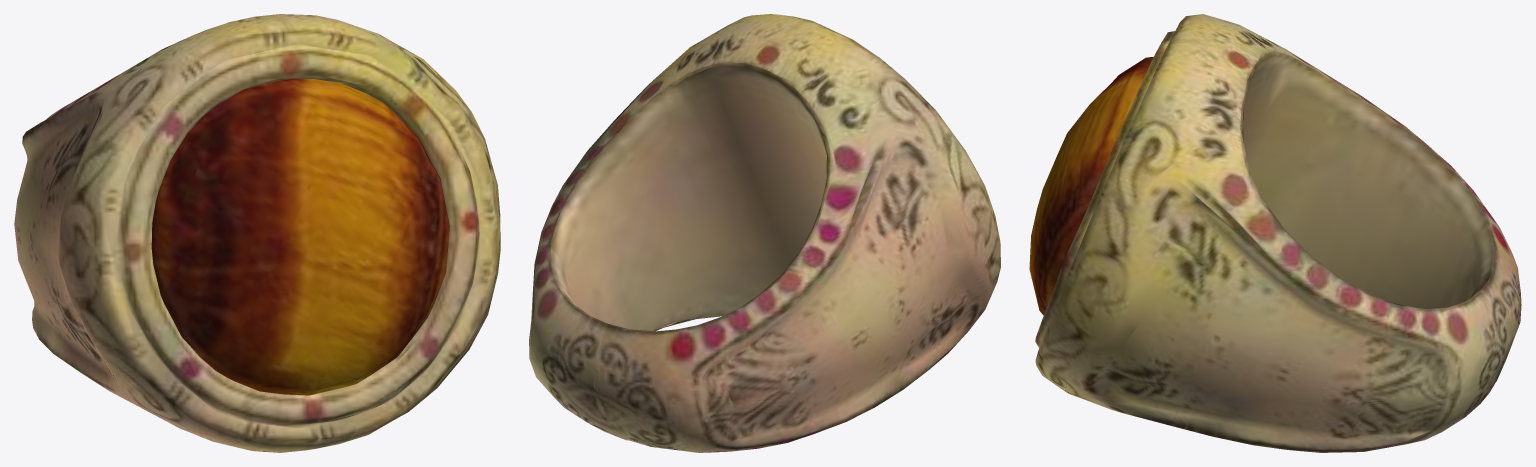
Rendered from ring_old.glb.
3 views of the same model, side by side, from view 1: azimuth 30°, elevation 25°; view 2: azimuth 150°, elevation 25°; view 3: azimuth 270°, elevation 25° (orthographic). The views are drawn at different scales.
Parts seen in each view (by area): view 1: ring_low_EMP_Accessories_0; view 2: ring_low_EMP_Accessories_0; view 3: ring_low_EMP_Accessories_0.
Boxes of the visible parts, x1,y1,x2,y2 form: ring_low_EMP_Accessories_0: (14, 14, 500, 452); ring_low_EMP_Accessories_0: (529, 14, 1000, 452); ring_low_EMP_Accessories_0: (1029, 14, 1521, 452).
Size of the model in its own units: 1.86 by 1.67 by 2.08.
1 material, 1 textured.
